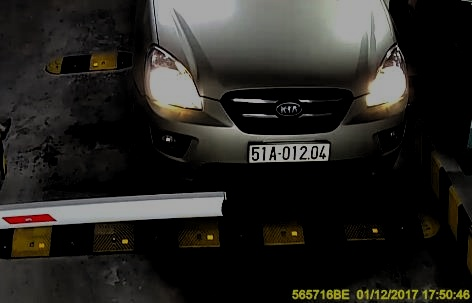plate: (245, 139, 332, 168)
